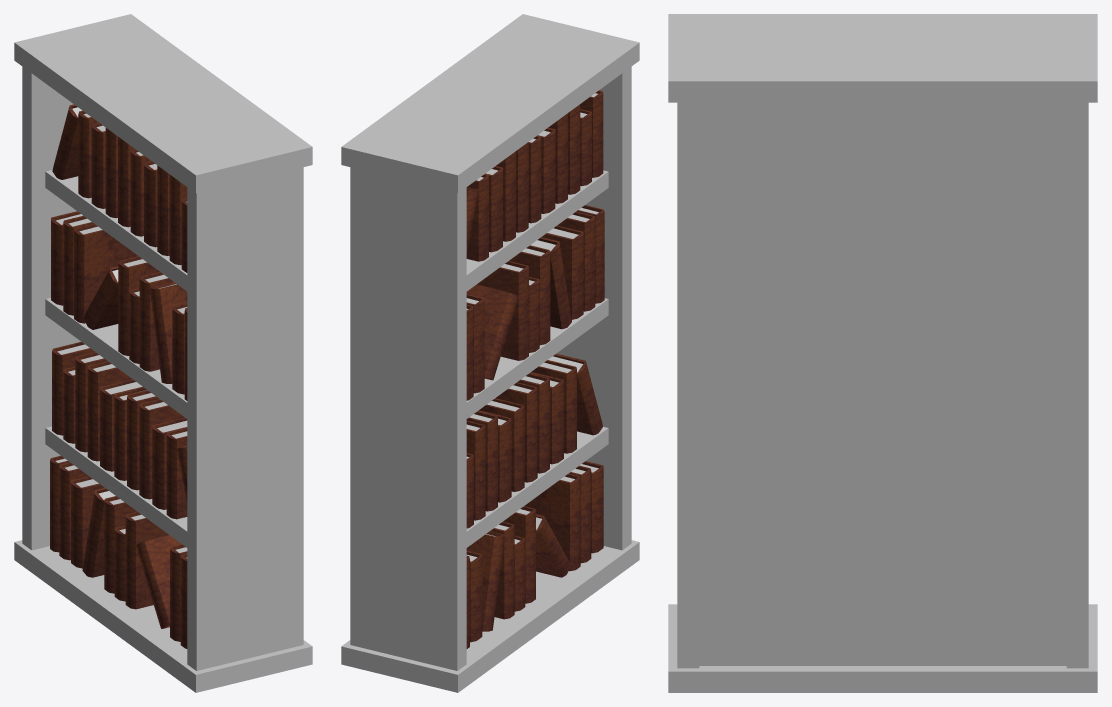
Rendered from Bookshelf2_Magnant_Grace.FBX.
3 views of the same model, side by side, from view 1: azimuth 30°, elevation 25°; view 2: azimuth 150°, elevation 25°; view 3: azimuth 270°, elevation 25° (orthographic). The views are drawn at different scales.
Parts seen in each view (by area): view 1: Box078; view 2: Box078; view 3: Box078.
Boxes of the visible parts, bbox=[...] form: Box078: bbox=[14, 14, 312, 692]; Box078: bbox=[341, 14, 639, 692]; Box078: bbox=[668, 14, 1097, 692].
Size of the model in its own units: 42.54 by 180 by 115.
